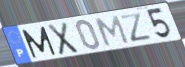0: (75, 18, 102, 51)
5: (145, 6, 172, 40)
M: (20, 25, 58, 60), (94, 14, 131, 48)
X: (46, 21, 81, 57)
Z: (118, 11, 153, 43)
